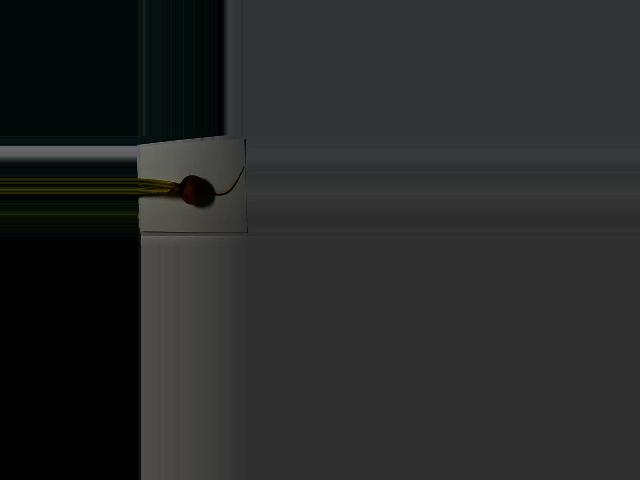beet: (137, 167, 244, 204)
